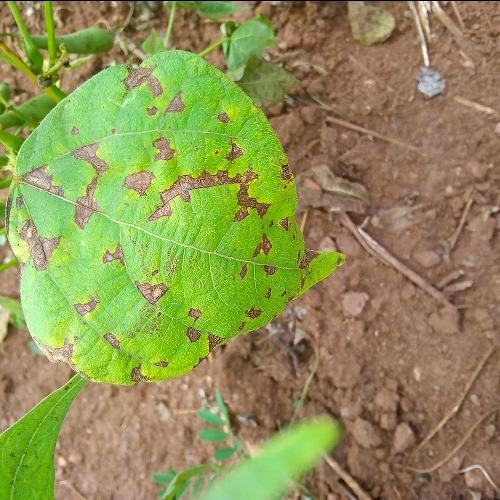hawar: (16, 52, 306, 370), (122, 152, 277, 232), (123, 326, 250, 392), (16, 150, 62, 279), (108, 258, 196, 322), (59, 132, 110, 237), (108, 64, 173, 120), (40, 312, 95, 377)
mozaik: (62, 108, 270, 352)
